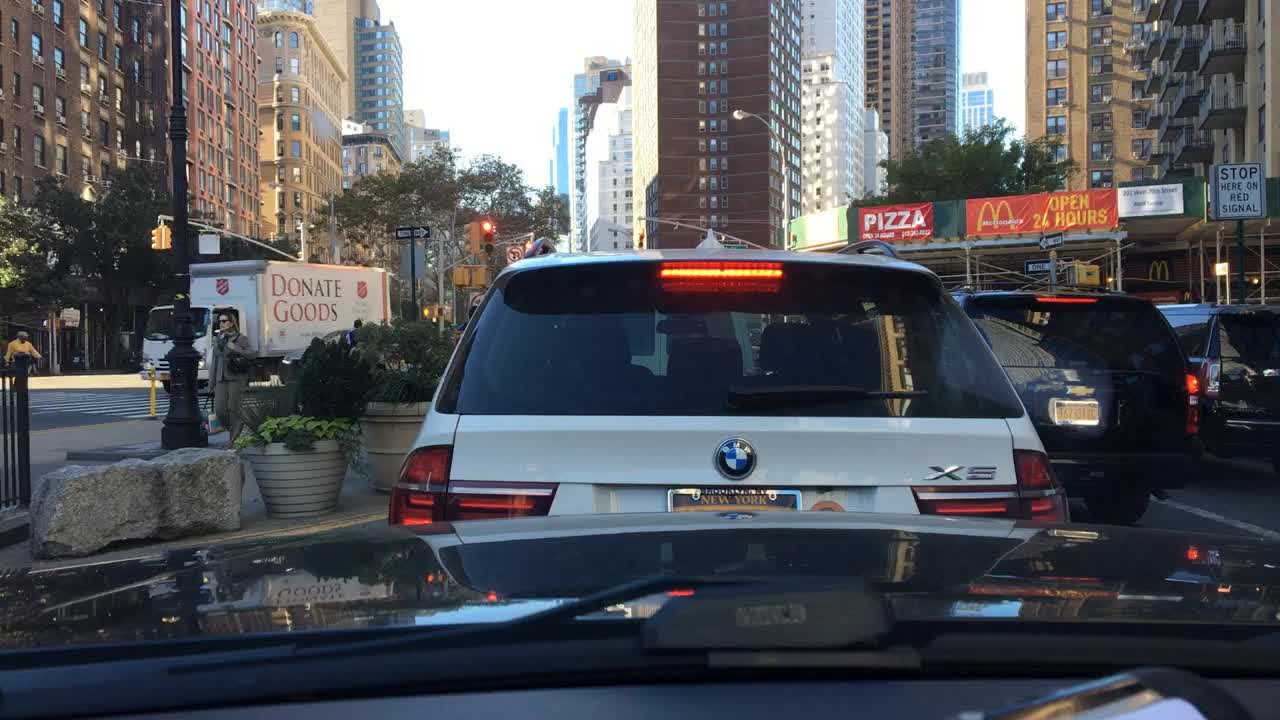car: (387, 226, 1072, 526), (948, 282, 1201, 524), (1158, 300, 1278, 462)
person: (208, 311, 252, 442), (0, 329, 41, 367), (349, 316, 364, 343)
traffic light: (1068, 260, 1096, 286), (478, 217, 495, 257), (465, 218, 480, 253), (471, 267, 489, 287), (454, 267, 468, 290), (439, 303, 454, 323), (424, 302, 439, 319), (161, 226, 171, 249), (150, 226, 159, 247), (524, 238, 534, 252), (638, 229, 645, 247)
traffic sign: (1216, 162, 1264, 218), (398, 244, 424, 282), (1023, 256, 1050, 273), (200, 229, 218, 254), (504, 241, 524, 262), (720, 241, 750, 249)
truck: (138, 257, 390, 394)
